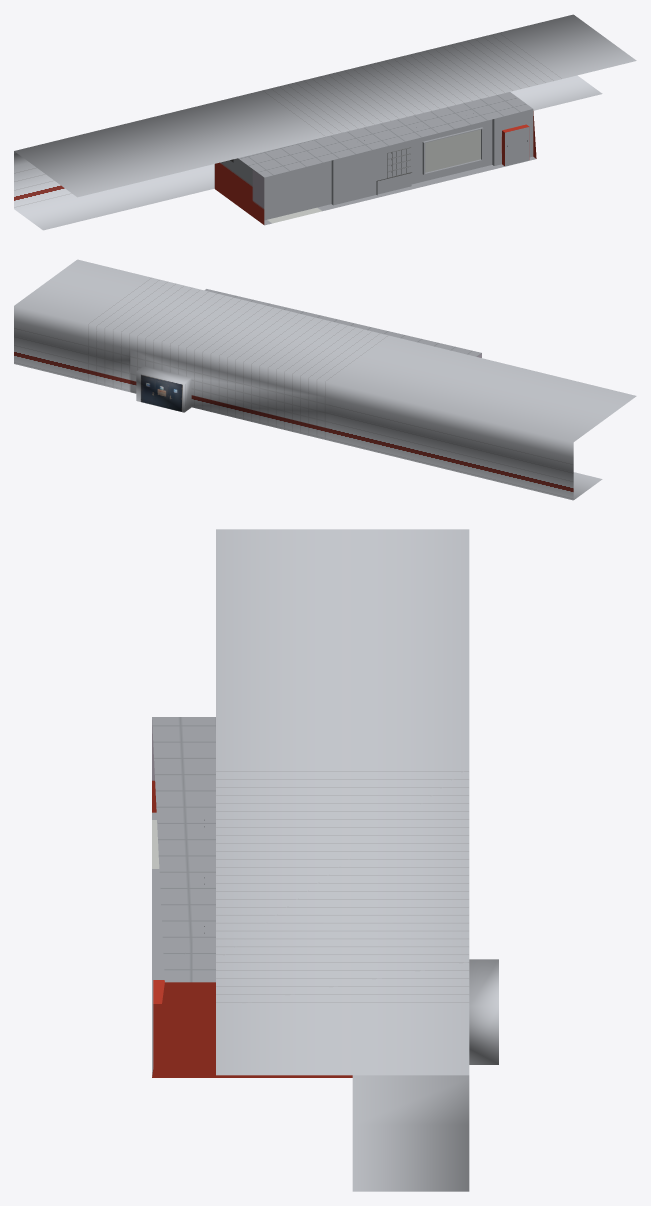
File: citl_environment3.fbx
3 renders of one model, top to bottom at view 1: azimuth 30°, elevation 25°; view 2: azimuth 150°, elevation 25°; view 3: azimuth 270°, elevation 25°, orthographic. The views are drawn at different scales.
Visible parts, largest first — view 1: mesh_Walls.003, mesh_Walls.002; view 2: mesh_Walls.003, mesh_Walls.002; view 3: mesh_Walls.003, mesh_Walls.002.
Part boxes in pixels (x1,y1,x2,y2): mesh_Walls.003: [14, 14, 636, 230]; mesh_Walls.002: [214, 92, 536, 225]; mesh_Walls.003: [14, 259, 636, 500]; mesh_Walls.002: [204, 289, 481, 357]; mesh_Walls.003: [216, 529, 498, 1191]; mesh_Walls.002: [152, 717, 352, 1077].
Bounding box in the file's own units: 5563 × 556 × 1493.
Materials: 10 (6 with a texture image).
